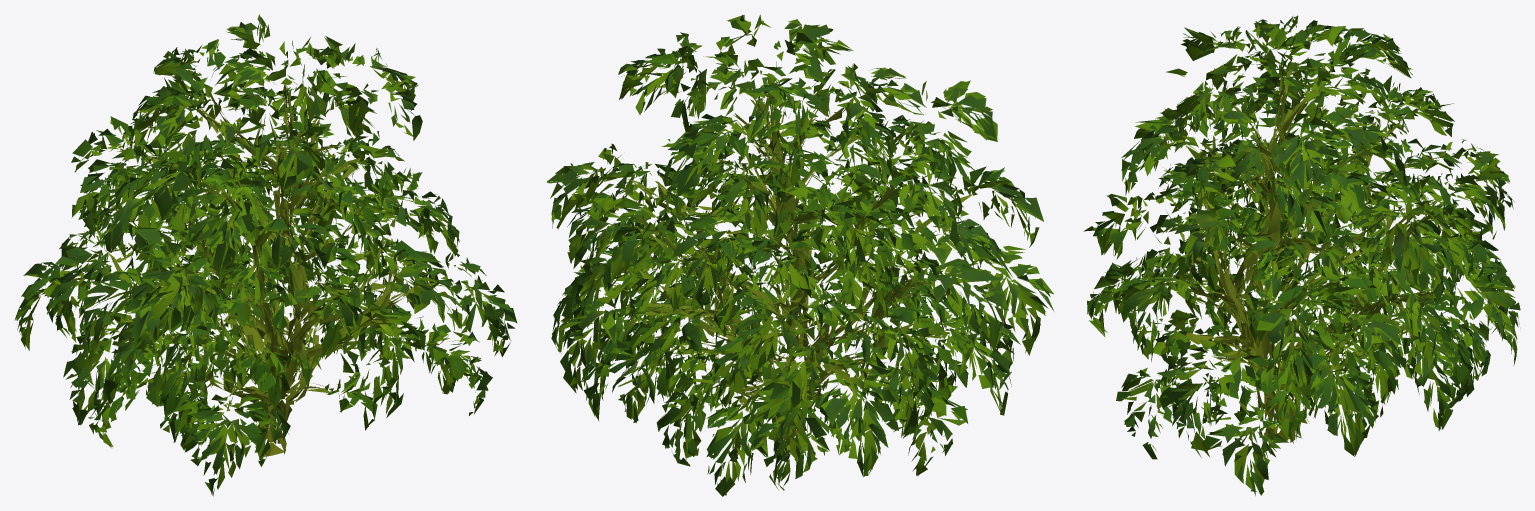
File: dwarf_lods.glb
3 views of the same model, side by side, from view 1: azimuth 30°, elevation 25°; view 2: azimuth 150°, elevation 25°; view 3: azimuth 270°, elevation 25° (orthographic). The views are drawn at different scales.
Parts seen in each view (by area): view 1: dwarf_0_lod0; view 2: dwarf_0_lod0; view 3: dwarf_0_lod0.
Boxes of the visible parts, x1,y1,x2,y2 form: dwarf_0_lod0: [14, 14, 517, 496]; dwarf_0_lod0: [546, 14, 1054, 496]; dwarf_0_lod0: [1083, 15, 1520, 495].
Size of what is drawn, in the model's own units: 1.07 by 0.9993 by 0.9706.
Materials: 1 (1 with a texture image).
